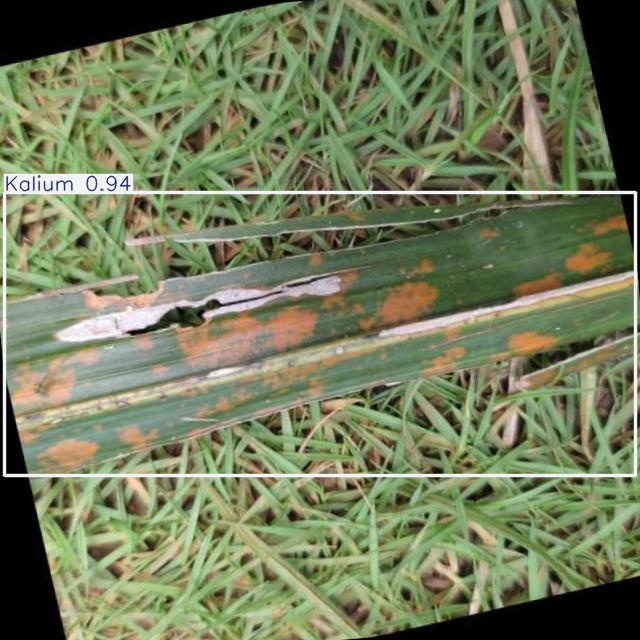Kalium: (5, 193, 636, 476)
